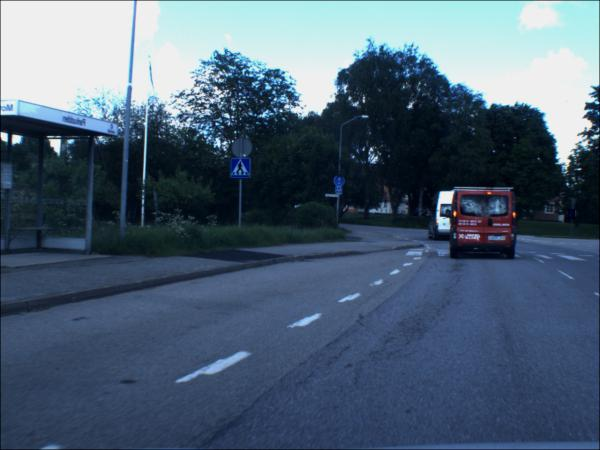PASS_RIGHT_SIDE: (568, 210, 576, 221)
PEDESTRIAN_CROSSING: (230, 159, 251, 181)
